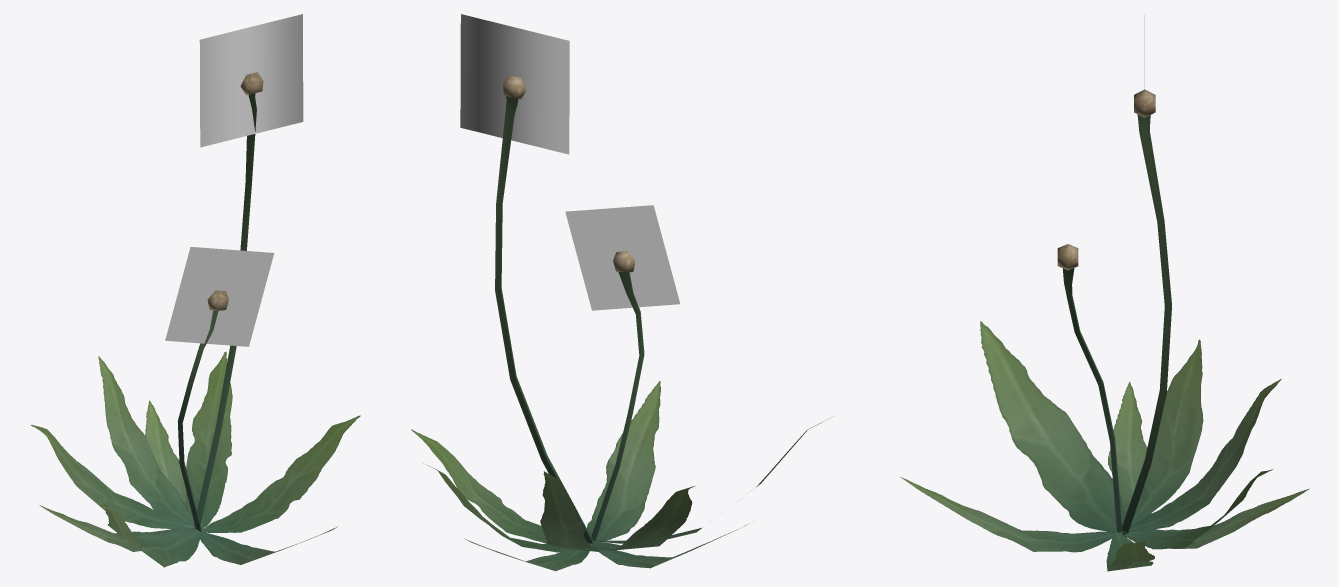
File: hl_envmod_flower_05.FBX
3 renders of one model, left to right at view 1: azimuth 30°, elevation 25°; view 2: azimuth 150°, elevation 25°; view 3: azimuth 270°, elevation 25°, orthographic. The views are drawn at different scales.
Visible parts, largest first — view 1: hl_envmod_flower_05; view 2: hl_envmod_flower_05; view 3: hl_envmod_flower_05.
Boxes of the visible parts, left/top/right/bottom form: hl_envmod_flower_05: left=31, top=14, right=360, bottom=567; hl_envmod_flower_05: left=411, top=14, right=833, bottom=571; hl_envmod_flower_05: left=900, top=15, right=1309, bottom=571.
Bounding box in the file's own units: 45.88 × 60.24 × 45.06.
